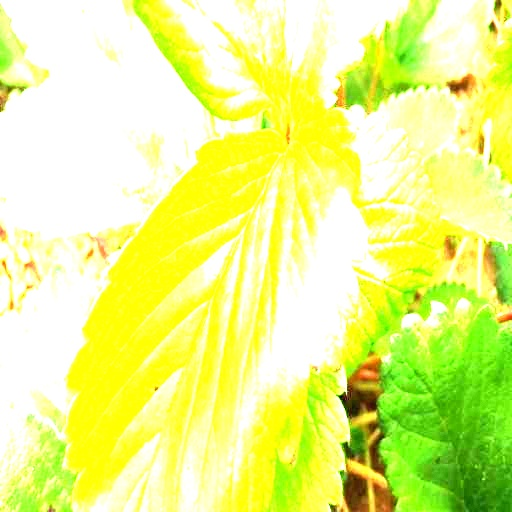Leaf Spot: (59, 106, 369, 511), (130, 0, 381, 133), (344, 103, 445, 383), (8, 264, 106, 432), (0, 0, 130, 76), (0, 409, 79, 511)
